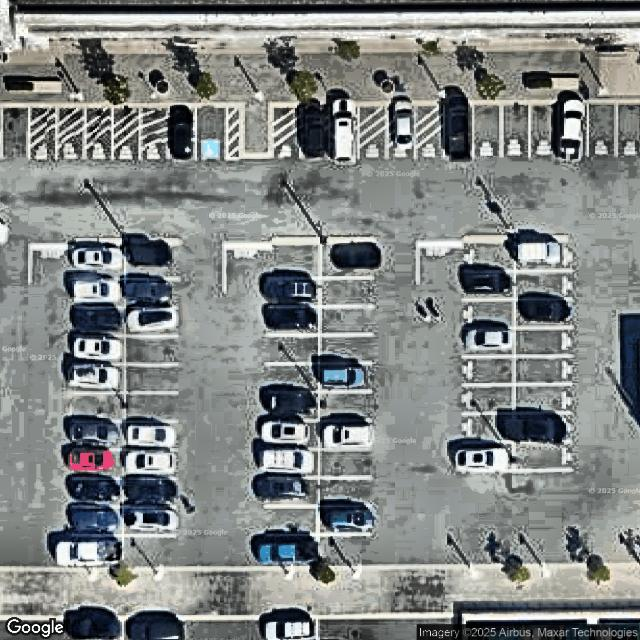car: (328, 98, 357, 162), (498, 415, 566, 440), (55, 538, 120, 563), (300, 101, 328, 157), (445, 99, 470, 159), (560, 99, 584, 161), (68, 245, 124, 271), (70, 304, 122, 330), (126, 276, 173, 304), (454, 446, 511, 469), (69, 421, 119, 447), (322, 424, 374, 449), (256, 542, 315, 564), (326, 505, 374, 532), (71, 336, 122, 361), (71, 364, 120, 390), (72, 277, 121, 302), (460, 268, 511, 292), (261, 450, 314, 473), (66, 616, 119, 639), (127, 239, 170, 267), (127, 508, 177, 532), (266, 306, 316, 330), (170, 106, 193, 158), (127, 618, 181, 640), (463, 328, 512, 352), (268, 390, 315, 415), (321, 362, 366, 388), (391, 95, 414, 145), (269, 275, 315, 300), (519, 297, 569, 320), (333, 245, 378, 270), (126, 481, 176, 503), (261, 421, 311, 443), (258, 478, 310, 499), (127, 424, 176, 446), (127, 452, 176, 474), (67, 449, 116, 471), (70, 481, 121, 502), (131, 308, 176, 331), (71, 510, 120, 531), (266, 618, 311, 639), (518, 243, 562, 263)
lot_boundary: (1, 100, 640, 640)
stall: (320, 244, 379, 278), (64, 535, 123, 569), (123, 245, 181, 279), (68, 276, 125, 308), (260, 306, 320, 336), (65, 476, 123, 507), (65, 421, 125, 450), (515, 298, 572, 328), (126, 308, 183, 338), (68, 246, 125, 276), (263, 335, 320, 365), (263, 363, 320, 393), (318, 392, 375, 422), (318, 506, 375, 536), (514, 412, 571, 442), (126, 278, 182, 308), (68, 364, 124, 394), (318, 534, 374, 564), (125, 364, 182, 393), (69, 308, 126, 337), (124, 421, 181, 450), (67, 392, 124, 421), (125, 393, 182, 422), (68, 335, 125, 364), (126, 335, 183, 364), (123, 477, 180, 506), (123, 507, 180, 536), (321, 278, 378, 307), (263, 247, 320, 276), (66, 507, 123, 536), (123, 536, 180, 565), (66, 449, 123, 478), (320, 307, 377, 336), (263, 278, 320, 307), (262, 392, 319, 421), (319, 364, 376, 393), (320, 336, 377, 365), (319, 450, 376, 479), (262, 449, 319, 478), (319, 421, 376, 450), (262, 420, 319, 449), (262, 535, 319, 564), (261, 507, 318, 536), (318, 478, 375, 507), (262, 478, 319, 507), (515, 384, 572, 413), (457, 412, 514, 441), (458, 442, 515, 471), (513, 442, 570, 471), (515, 328, 572, 357), (514, 356, 571, 385), (457, 357, 514, 386), (458, 384, 515, 413), (460, 299, 517, 328), (514, 242, 571, 270), (462, 270, 514, 300), (123, 450, 178, 478), (168, 105, 196, 159), (300, 103, 328, 157), (560, 103, 588, 157), (502, 103, 530, 157), (2, 106, 29, 160), (29, 106, 56, 160), (57, 106, 84, 160), (85, 107, 112, 161), (113, 107, 140, 161), (140, 105, 167, 159), (331, 105, 358, 159), (272, 103, 299, 157), (244, 103, 271, 157), (198, 104, 225, 158), (445, 103, 472, 157), (415, 103, 442, 157), (387, 104, 414, 158), (360, 103, 387, 157), (531, 103, 558, 157), (474, 104, 501, 158), (589, 102, 616, 156), (124, 617, 185, 640), (464, 328, 514, 356), (464, 243, 515, 270), (63, 617, 125, 639), (615, 100, 639, 154), (260, 617, 318, 639)
